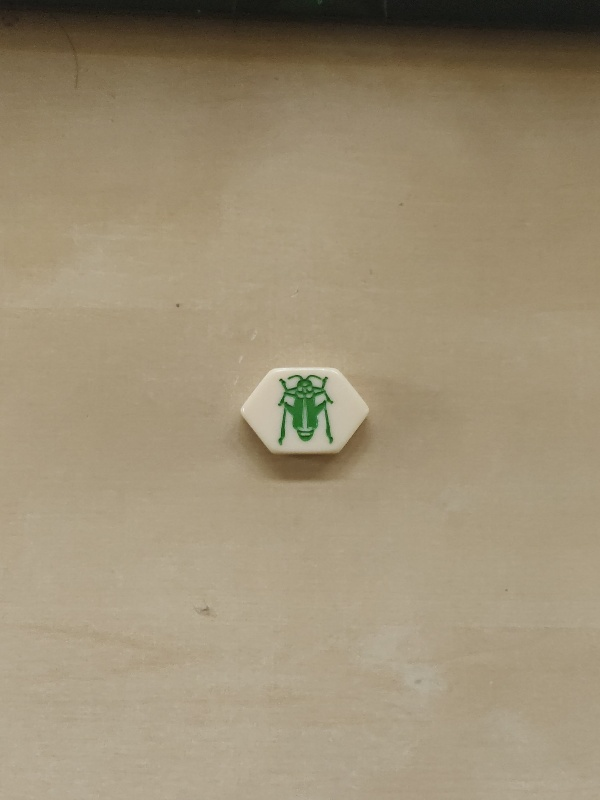white_grasshopper: (241, 366, 366, 457)
